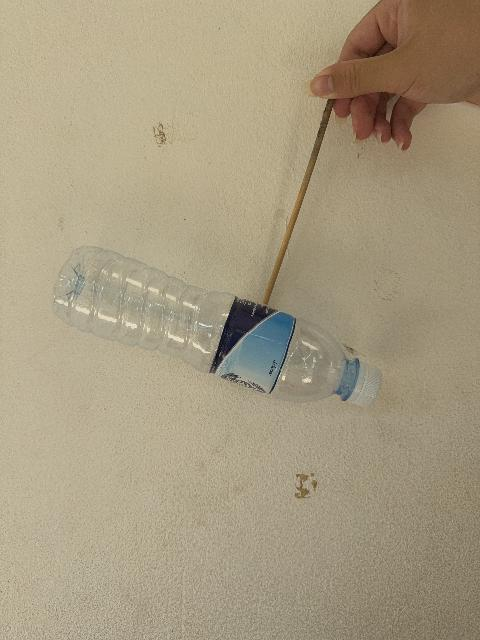bottle: (53, 247, 381, 406)
